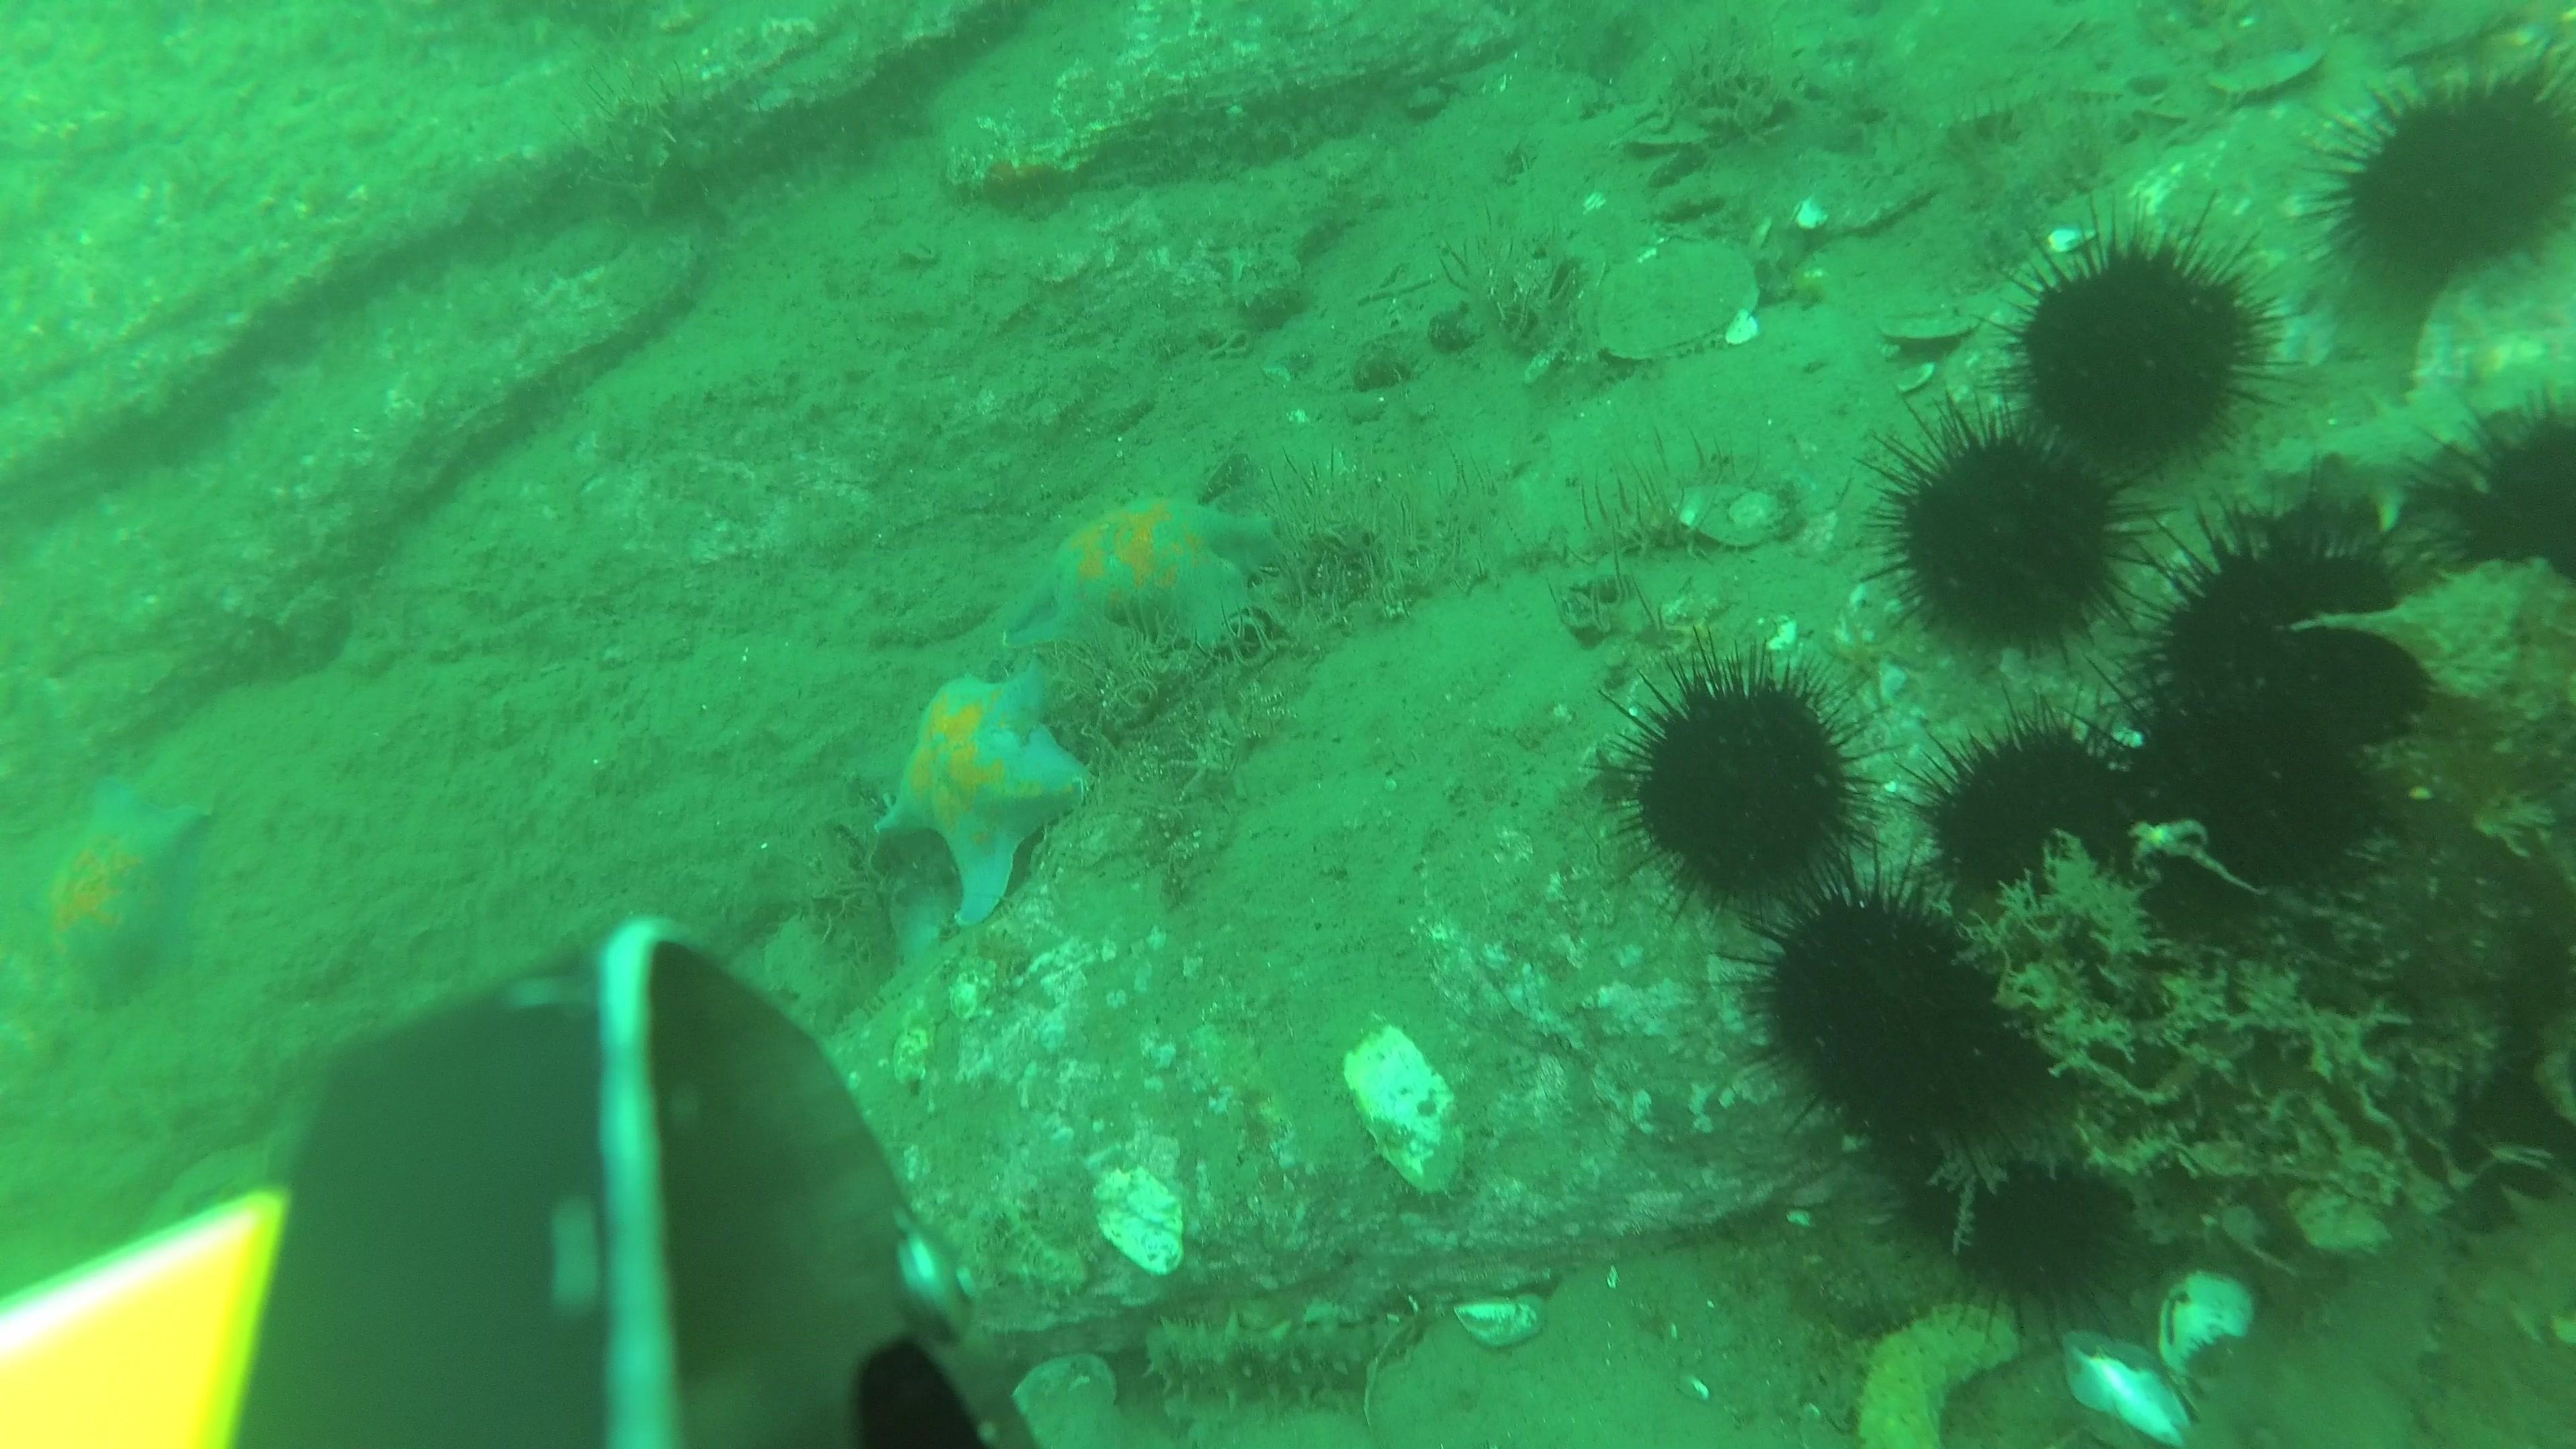echinus: (1732, 867, 2068, 1175), (2135, 495, 2442, 761), (1994, 209, 2288, 481), (1863, 398, 2155, 667), (1601, 644, 1882, 918), (2097, 683, 2392, 936), (2309, 48, 2574, 313), (1907, 702, 2166, 931), (1882, 1129, 2143, 1332), (2424, 380, 2574, 589)
holothurian: (2258, 1161, 2571, 1445), (2173, 1205, 2461, 1447), (2235, 359, 2564, 547), (1138, 1293, 1421, 1419), (1851, 1297, 2026, 1444), (2450, 1157, 2574, 1357)
scallop: (1587, 235, 1762, 368), (2206, 32, 2328, 103), (1877, 292, 1976, 352)
starfish: (872, 665, 1095, 929), (1010, 487, 1283, 663), (25, 771, 216, 1010)
